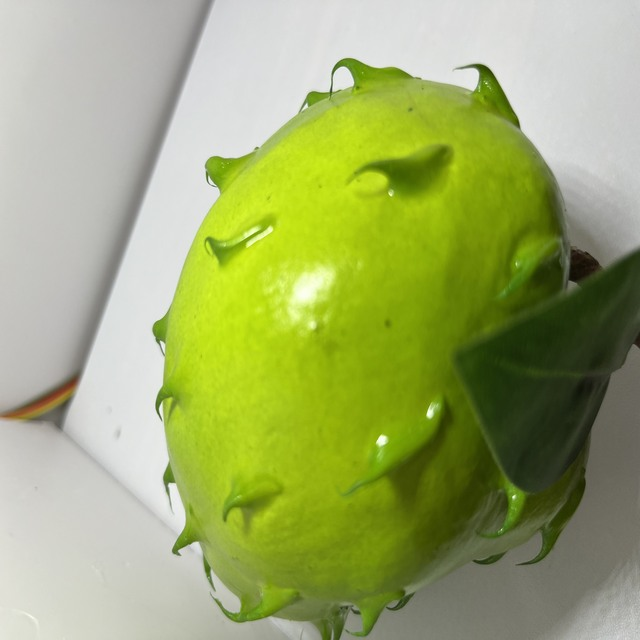Man cau: (140, 55, 611, 640)
